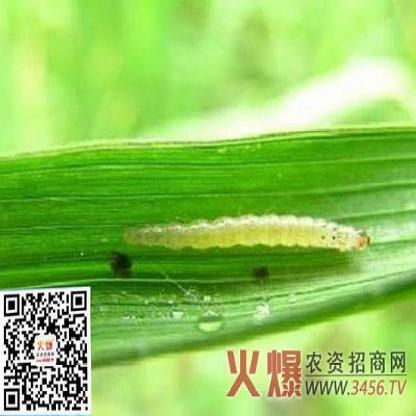leaf-folder: (112, 195, 380, 280)
